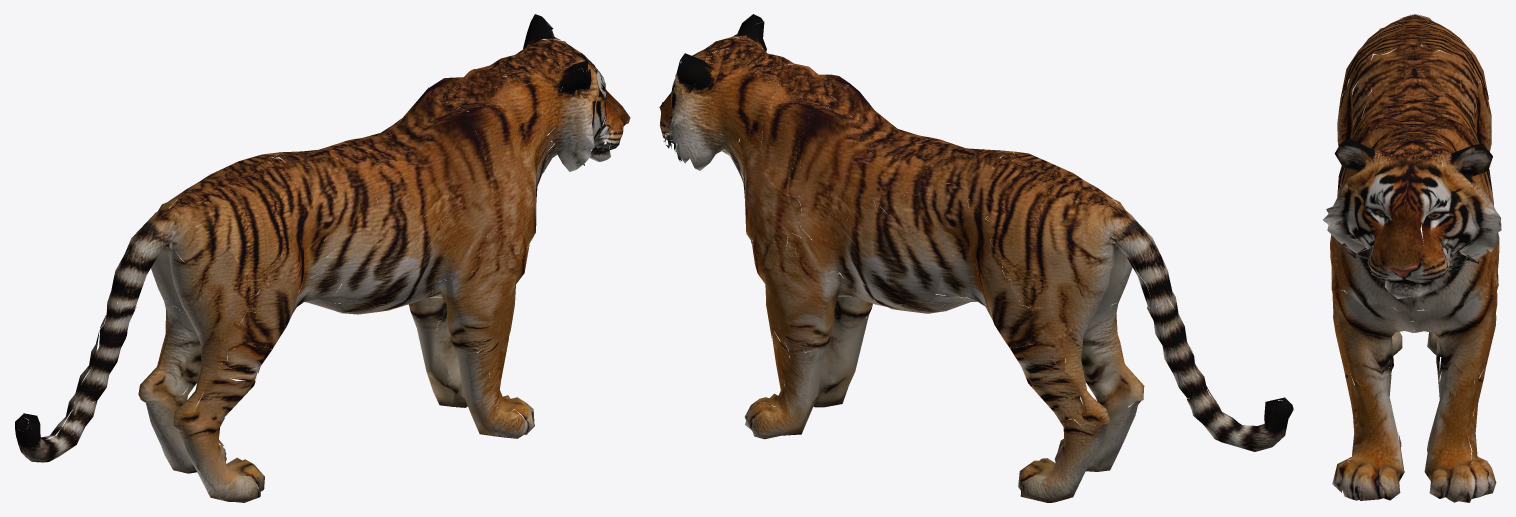
The model's file is tiger.glb.
3 views of the same model, side by side, from view 1: azimuth 30°, elevation 25°; view 2: azimuth 150°, elevation 25°; view 3: azimuth 270°, elevation 25° (orthographic). The views are drawn at different scales.
Parts seen in each view (by area): view 1: tripo_node_da08f70a-68c6-42b5-a65b-4ee09f964560; view 2: tripo_node_da08f70a-68c6-42b5-a65b-4ee09f964560; view 3: tripo_node_da08f70a-68c6-42b5-a65b-4ee09f964560.
Boxes of the visible parts, box(x1,y1,x2,y2) form: tripo_node_da08f70a-68c6-42b5-a65b-4ee09f964560: box(15, 14, 630, 502); tripo_node_da08f70a-68c6-42b5-a65b-4ee09f964560: box(659, 14, 1293, 502); tripo_node_da08f70a-68c6-42b5-a65b-4ee09f964560: box(1323, 14, 1501, 502).
Size of the model in its own units: 1.98 by 1.1 by 0.4537.
Materials: 1 (1 with a texture image).
